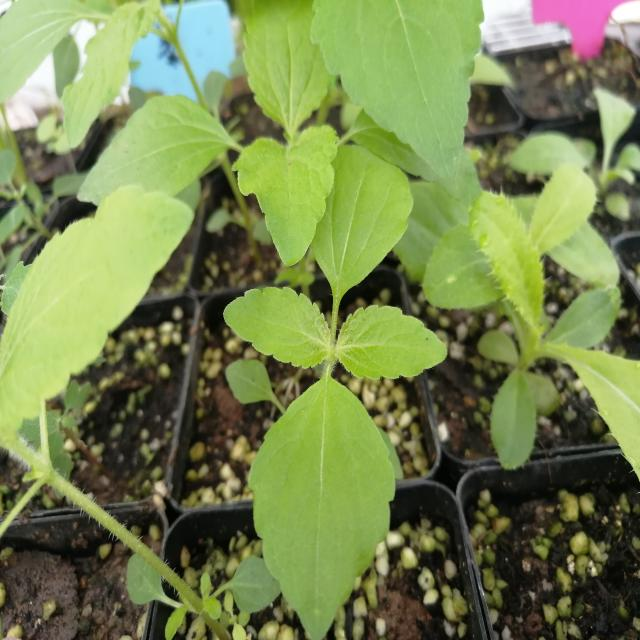billygoat_weed: (243, 155, 444, 603), (103, 12, 470, 252)
